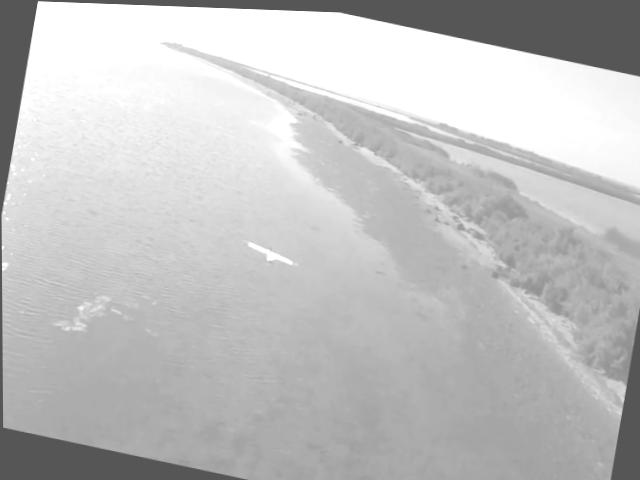hedef: (233, 230, 301, 282)
